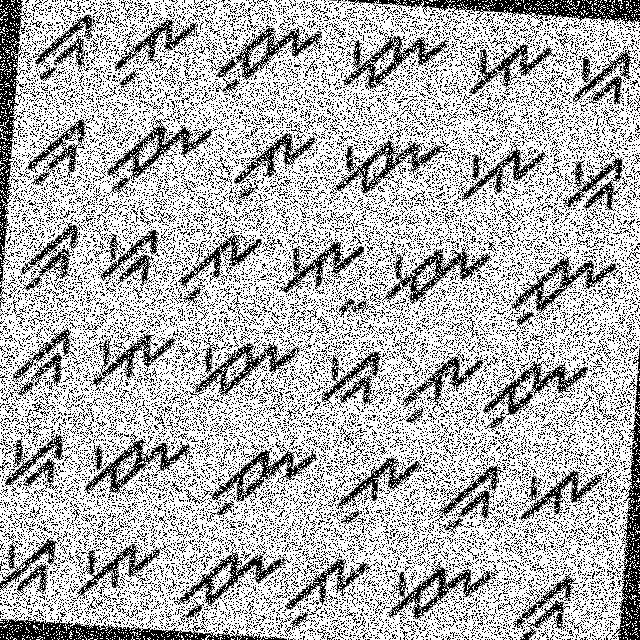e: (271, 227, 373, 298), (455, 138, 547, 214), (83, 319, 176, 392), (514, 459, 607, 527), (72, 534, 165, 600), (464, 36, 554, 103)
ngge: (557, 35, 639, 115), (560, 146, 630, 218), (90, 220, 164, 288), (317, 344, 388, 414), (1, 426, 70, 495), (0, 531, 60, 606)
nggu: (6, 317, 78, 405), (31, 5, 104, 90), (16, 113, 90, 196), (13, 209, 83, 295), (436, 455, 504, 542), (510, 568, 577, 639)
nje: (376, 232, 496, 320), (323, 120, 447, 202), (187, 321, 302, 401), (387, 552, 502, 631), (337, 22, 451, 100), (78, 424, 193, 501)
nju: (500, 237, 622, 333), (200, 436, 322, 525), (98, 109, 216, 201), (208, 17, 326, 104), (175, 542, 286, 628), (484, 352, 592, 438)
u: (226, 119, 320, 209), (396, 341, 486, 428), (336, 447, 426, 529), (109, 11, 200, 92), (178, 223, 264, 308), (284, 554, 370, 630)
